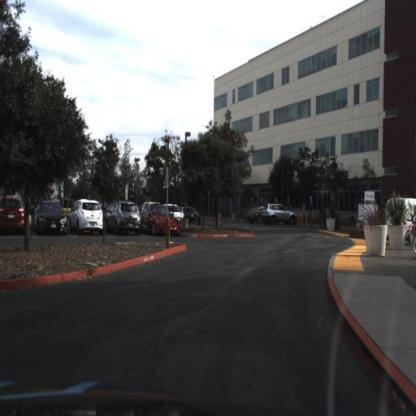car: (30, 200, 73, 236), (105, 199, 143, 238), (142, 201, 182, 237), (70, 198, 104, 238), (261, 203, 299, 227), (2, 195, 25, 233), (243, 200, 264, 228), (183, 204, 203, 225), (171, 205, 185, 223)
pedestrian: (330, 197, 338, 227), (322, 199, 329, 230), (318, 196, 323, 234)
